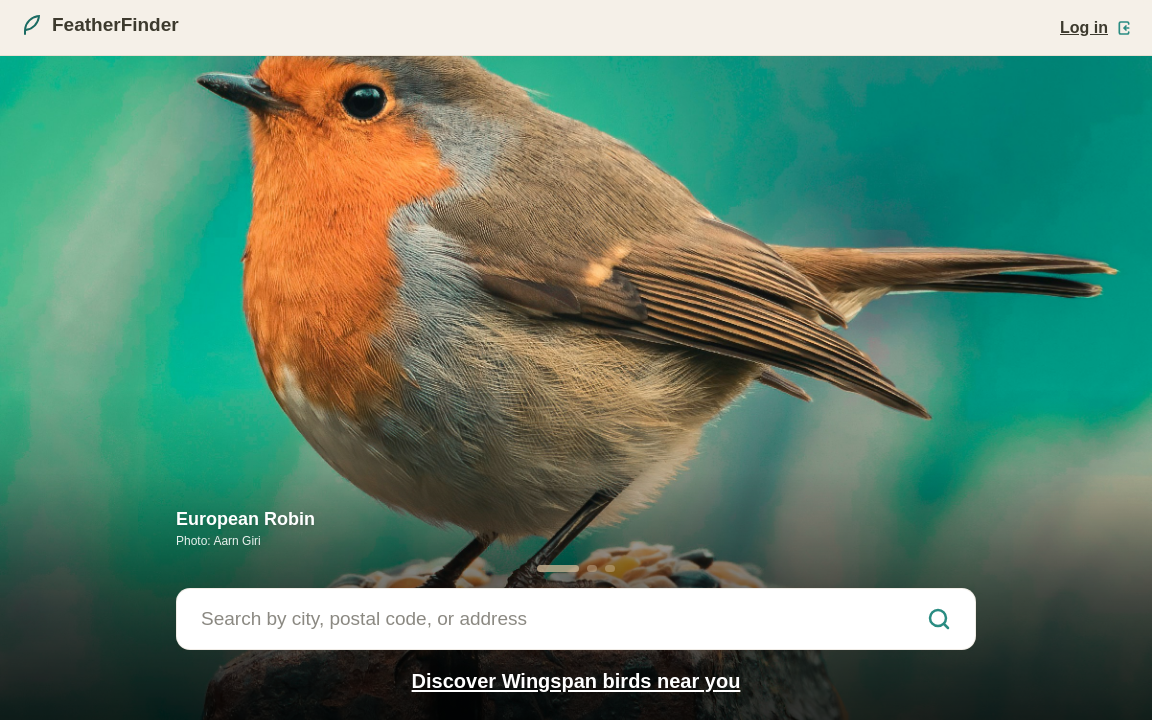
Test case: HomeScreen › location search flow › shows validation error for invalid location query
The width and height of the screenshot is (1152, 720).
Type "a" into the dropdown with placeholder "Search by city, postal code, or address".
click(556, 619); type("a")  # box [201,604,911,633]
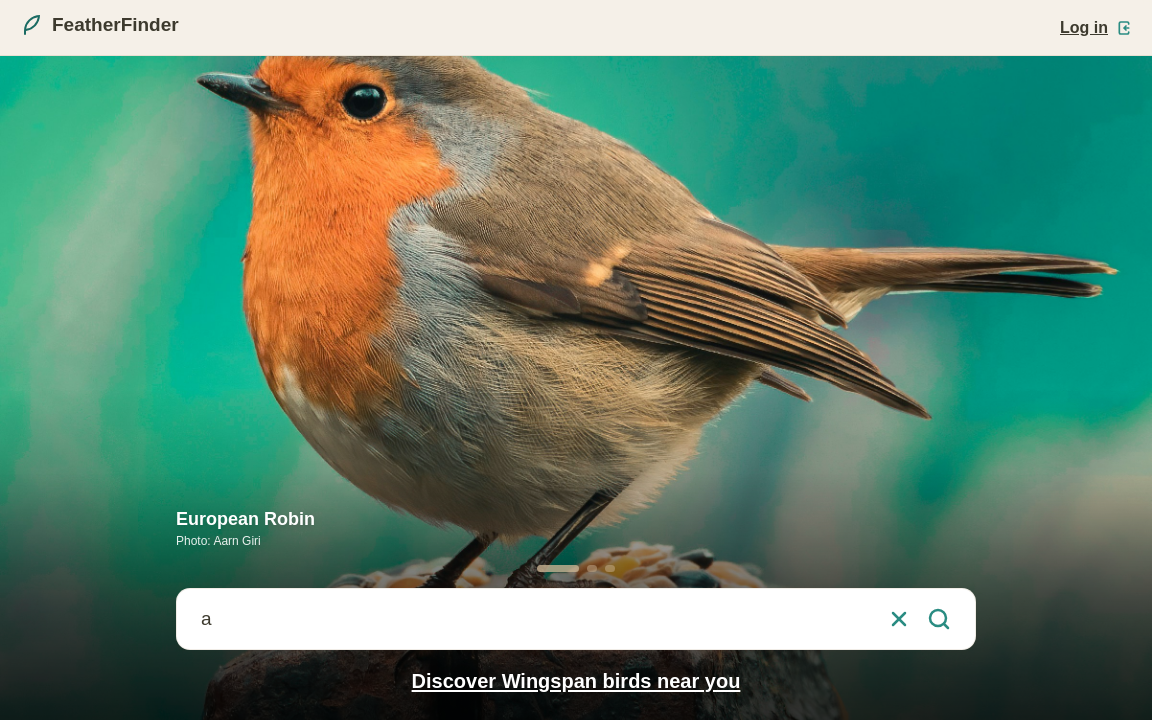
Click the button named "search".
click(939, 619)  # box [927,607,951,631]
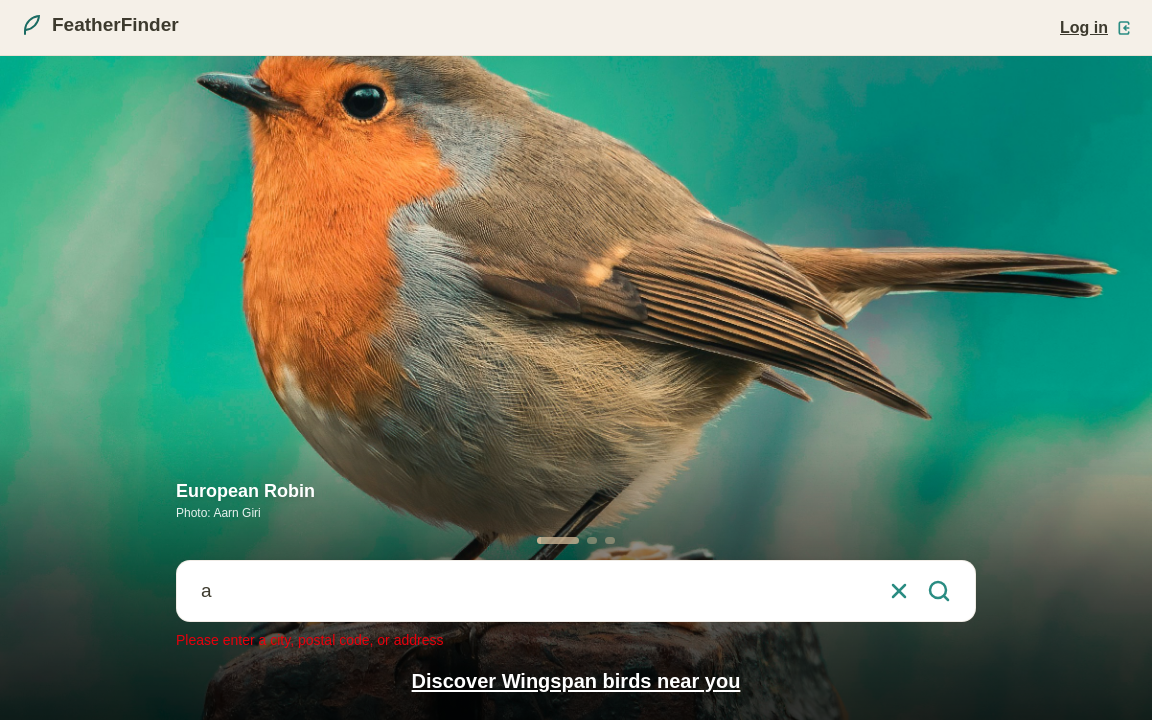
expect the text "Please enter a city, postal code, or address" is shown: met, box [176,632,444,648]
